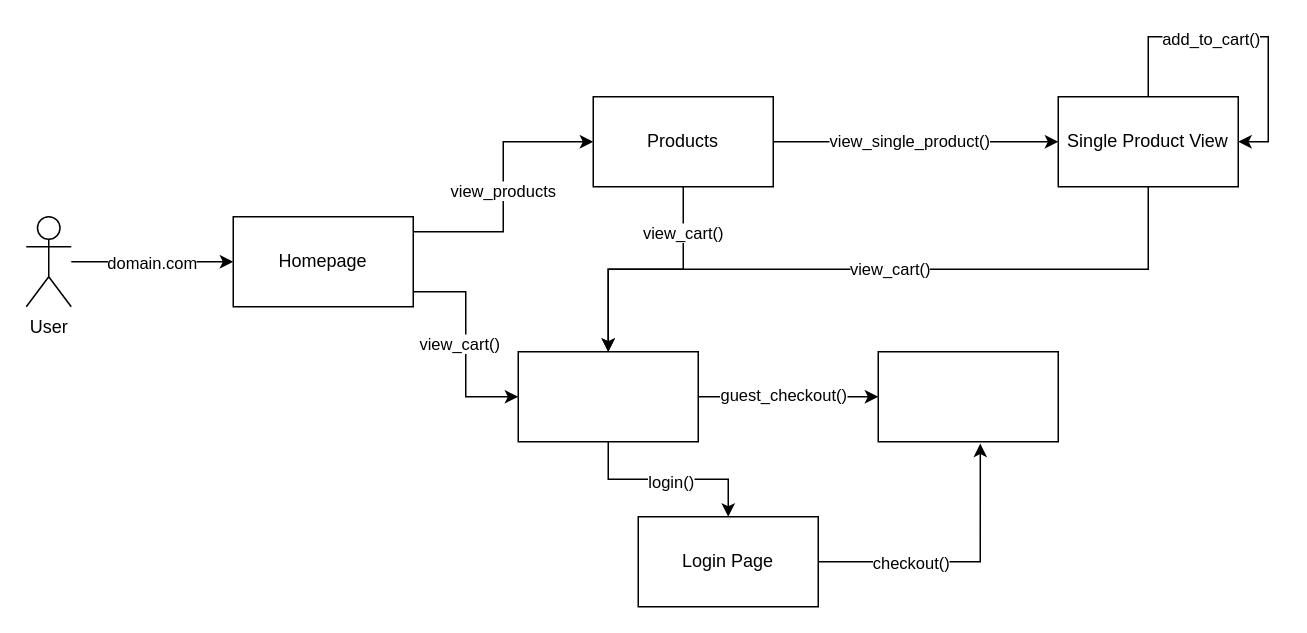
The diagram is 1307 pixels wide and 633 high, and some of its shapes have lost their labels. Each missing label, with the centre of its shape:
Checkout Page: the point at 967,396
Shopping Cart: the point at 607,396
